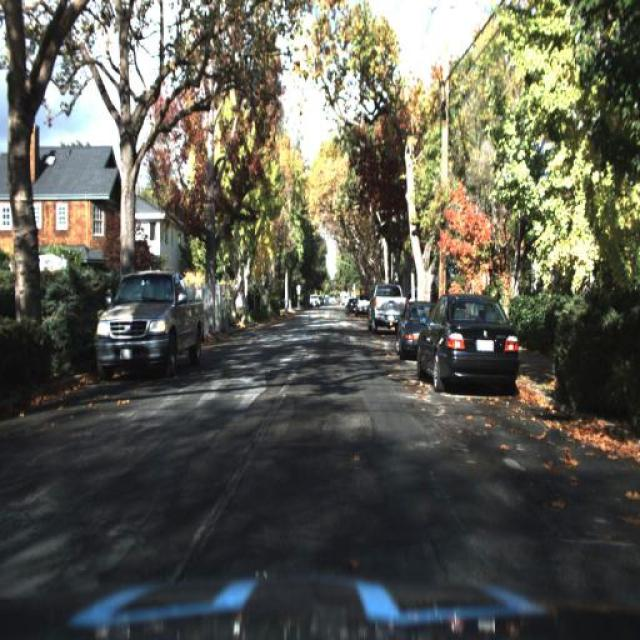car: (95, 273, 201, 379), (416, 292, 515, 381), (367, 280, 408, 340), (394, 295, 422, 364), (370, 281, 399, 334), (348, 298, 359, 318)
